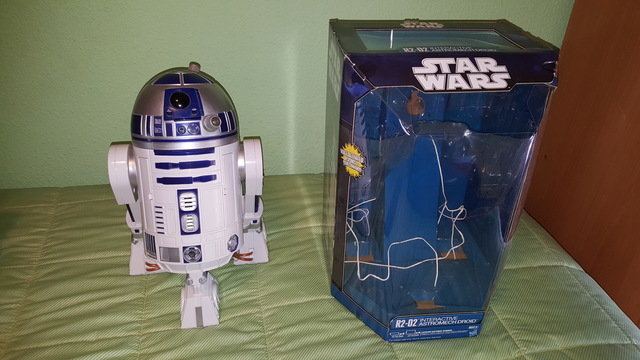r2d2: (107, 62, 267, 326)
